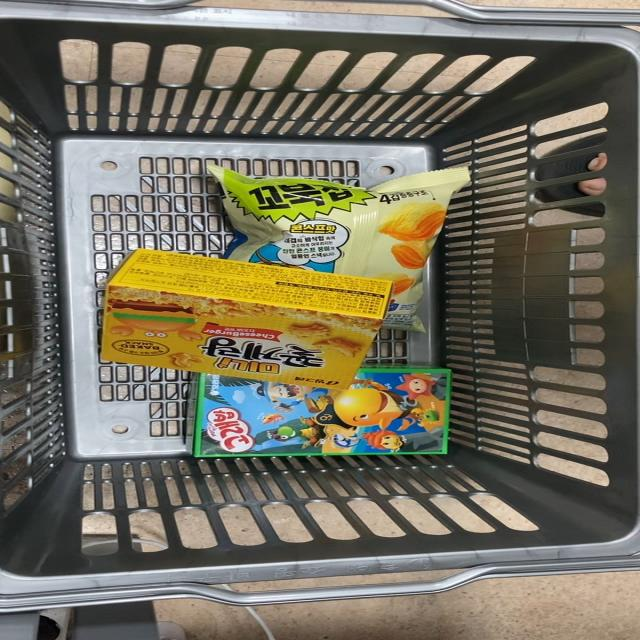ggobukchip: (209, 160, 480, 268)
goraebob: (170, 377, 474, 461)
minicrab: (96, 246, 399, 382)
